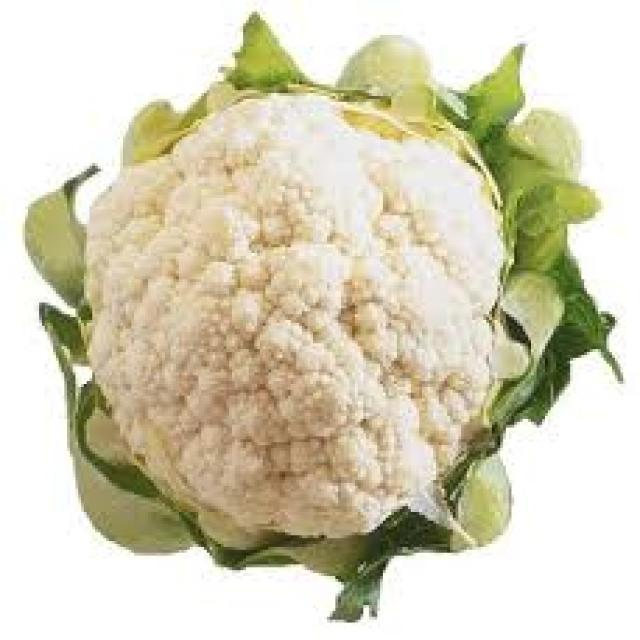organic waste: (17, 11, 620, 616)
